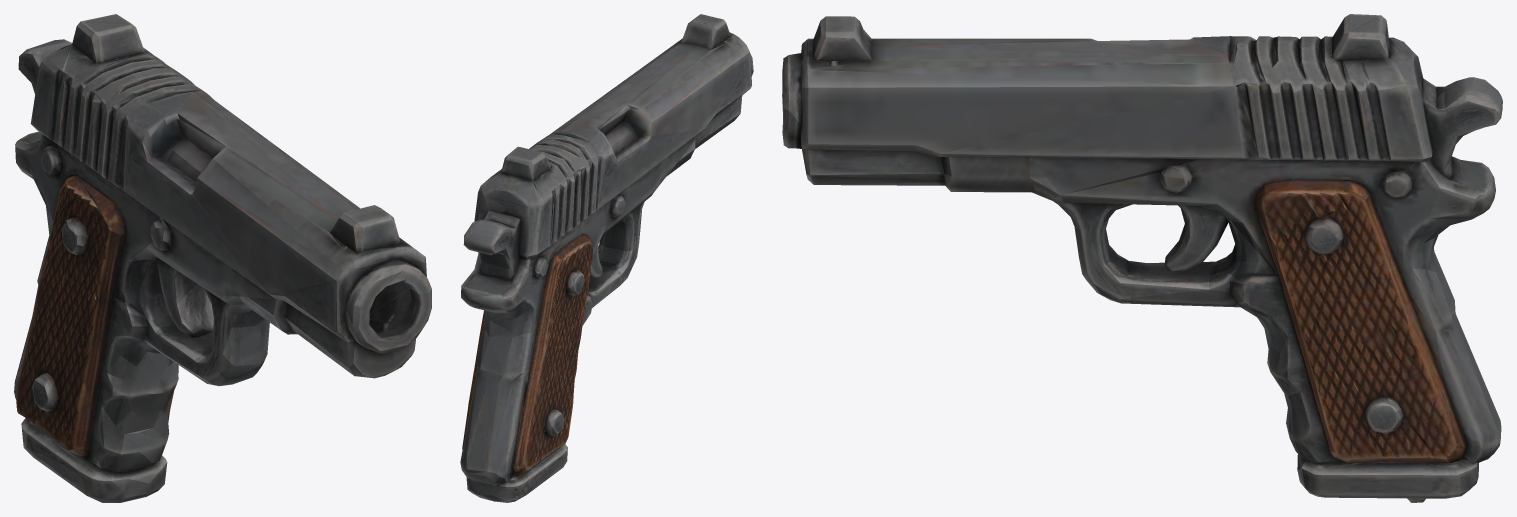
File: gun_fourfifth.glb
3 renders of one model, left to right at view 1: azimuth 30°, elevation 25°; view 2: azimuth 150°, elevation 25°; view 3: azimuth 270°, elevation 25°, orthographic. The views are drawn at different scales.
Bounding box in the file's own units: 0.0417 × 0.1612 × 0.22.
Materials: 1 (1 with a texture image).
